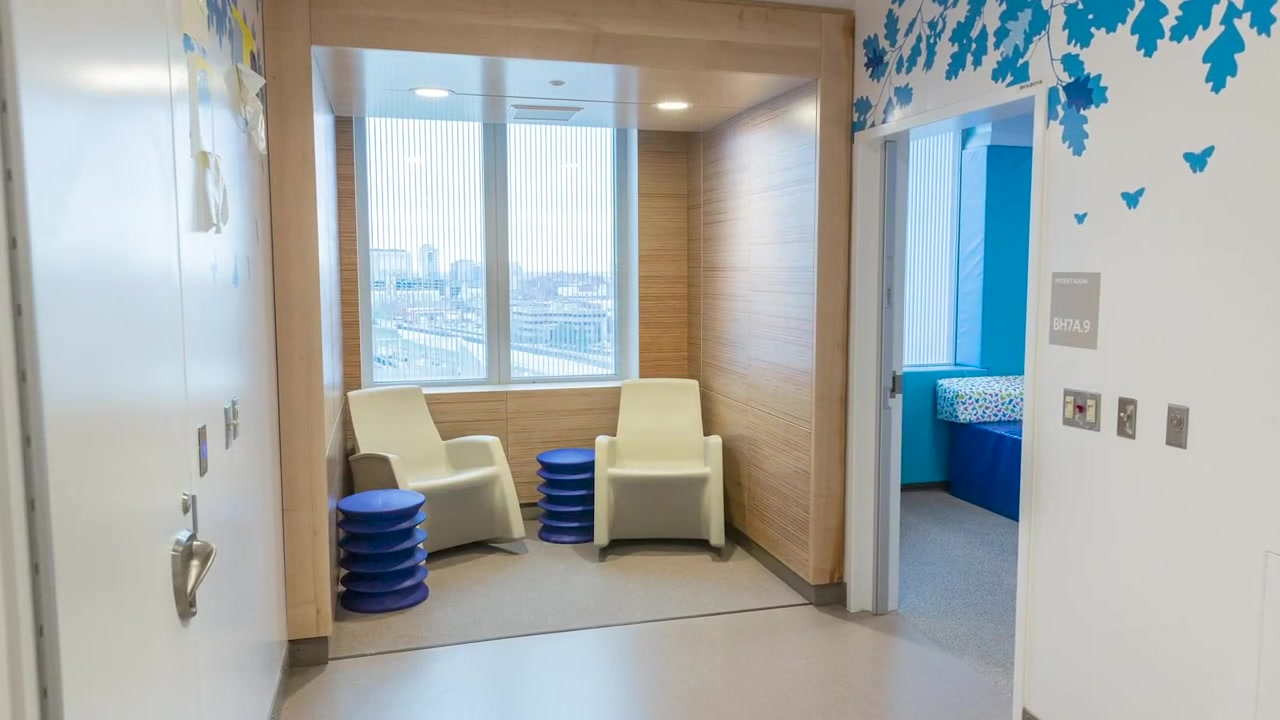chair: (343, 384, 526, 558), (593, 378, 728, 555)
door_handle: (189, 541, 217, 618)
light_switch: (1115, 396, 1137, 440), (222, 405, 239, 451)
sofa: (947, 375, 1041, 529)
